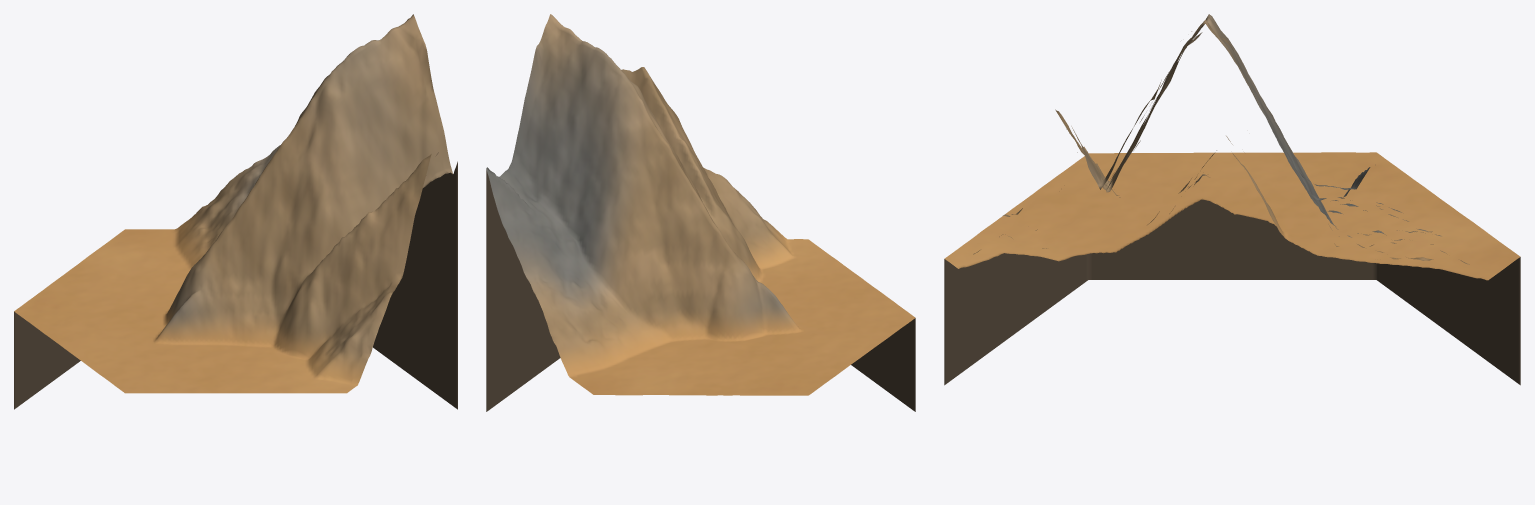
The picture shows the model from 3 angles, left to right: view 1: azimuth 30°, elevation 25°; view 2: azimuth 150°, elevation 25°; view 3: azimuth 270°, elevation 25°; orthographic projection. The views are drawn at different scales.
Parts seen in each view (by area): view 1: terrain, hex_side_cut; view 2: terrain, hex_side_cut; view 3: terrain, hex_side_cut.
Part boxes in pixels (x1=…): terrain: x1=14, y1=14, x2=452, y2=393; hex_side_cut: x1=14, y1=161, x2=457, y2=409; terrain: x1=486, y1=14, x2=915, y2=395; hex_side_cut: x1=486, y1=169, x2=915, y2=411; terrain: x1=944, y1=14, x2=1520, y2=280; hex_side_cut: x1=944, y1=199, x2=1520, y2=385.
Bounding box in the file's own units: 4330 × 4512 × 5000.
